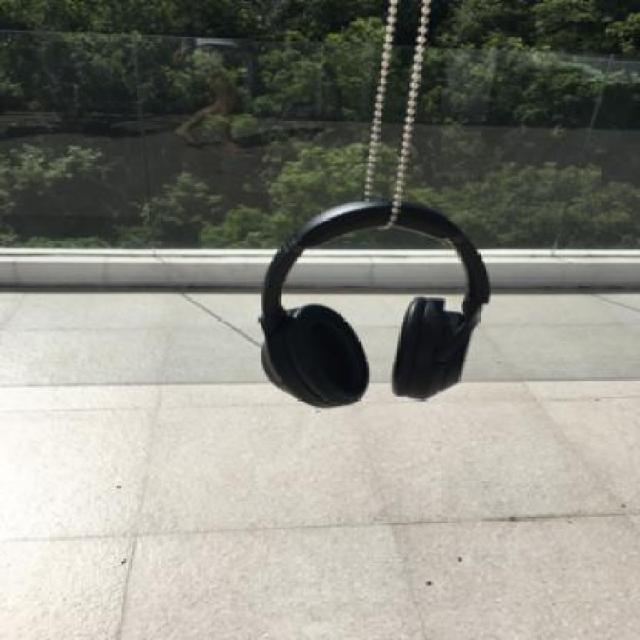earphone: (242, 152, 518, 446)
